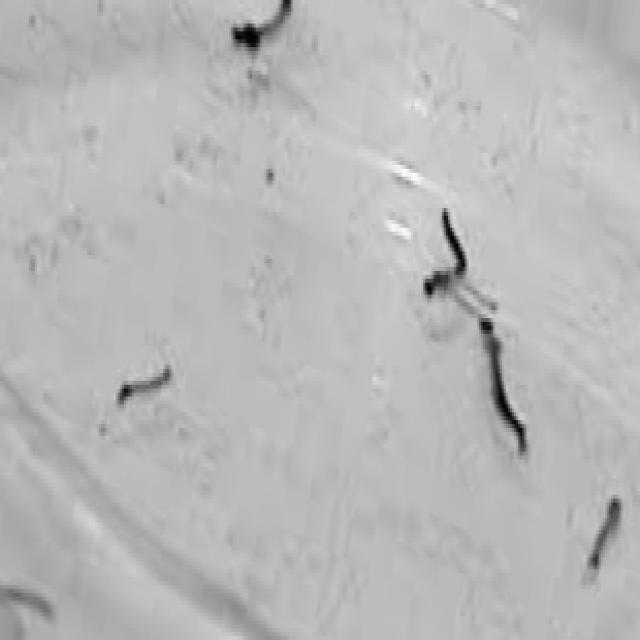larvas: (477, 307, 524, 438), (425, 214, 471, 303), (233, 0, 290, 52), (591, 499, 625, 569), (118, 366, 168, 406), (452, 268, 498, 311)
